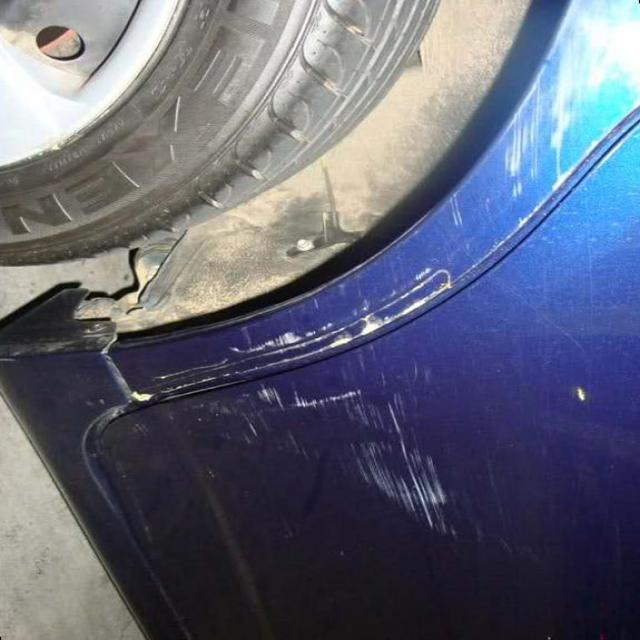scratch: (313, 14, 613, 324), (168, 333, 544, 566)
